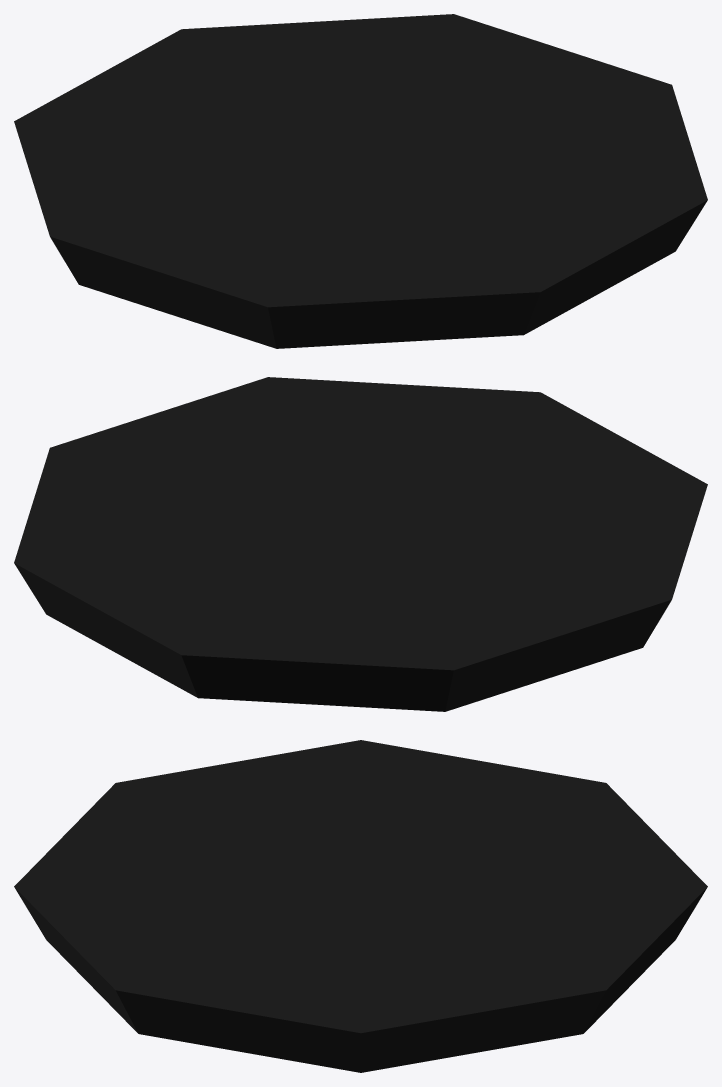
Rendered from Int_Light01_2.fbx.
The picture shows the model from 3 angles, top to bottom: view 1: azimuth 30°, elevation 25°; view 2: azimuth 150°, elevation 25°; view 3: azimuth 270°, elevation 25°; orthographic projection. The views are drawn at different scales.
Parts seen in each view (by area): view 1: Int_Light01_2; view 2: Int_Light01_2; view 3: Int_Light01_2.
Boxes of the visible parts, x1,y1,x2,y2 form: Int_Light01_2: (14, 14, 707, 348); Int_Light01_2: (14, 377, 707, 711); Int_Light01_2: (14, 740, 707, 1072).
Size of what is drawn, in the model's own units: 40.02 by 40.02 by 7.42.
